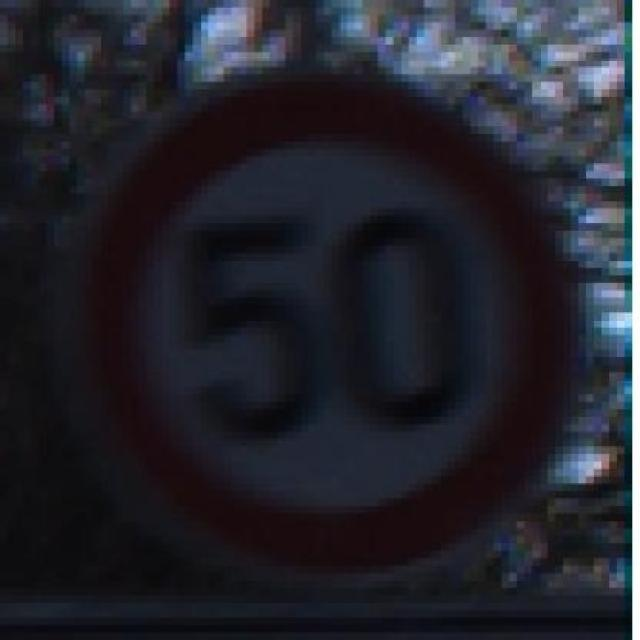forb_speed_over_50: (99, 79, 568, 566)
